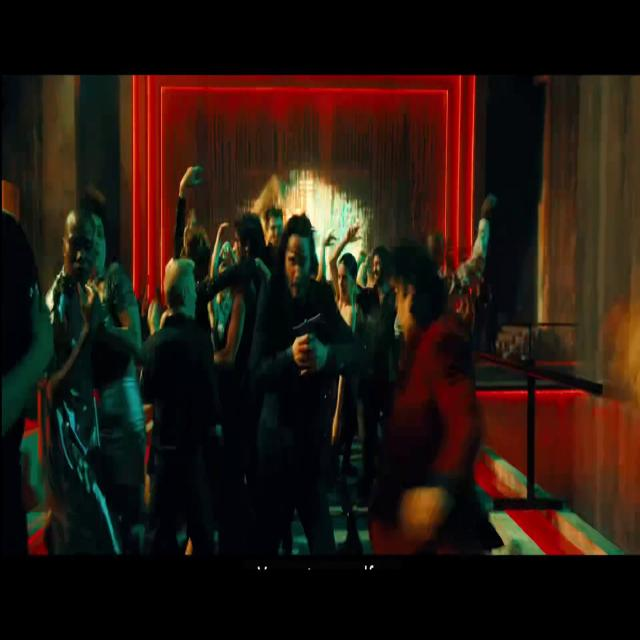weapons: (282, 296, 330, 381)
